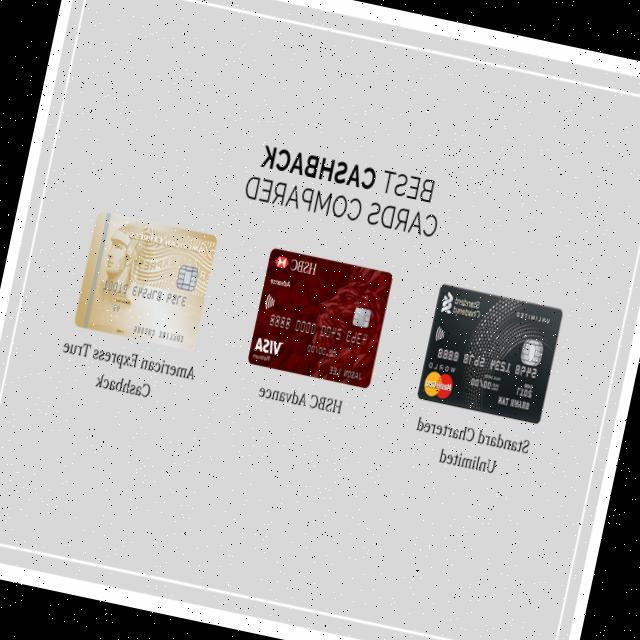Standard Chartered: (440, 290, 483, 321)
